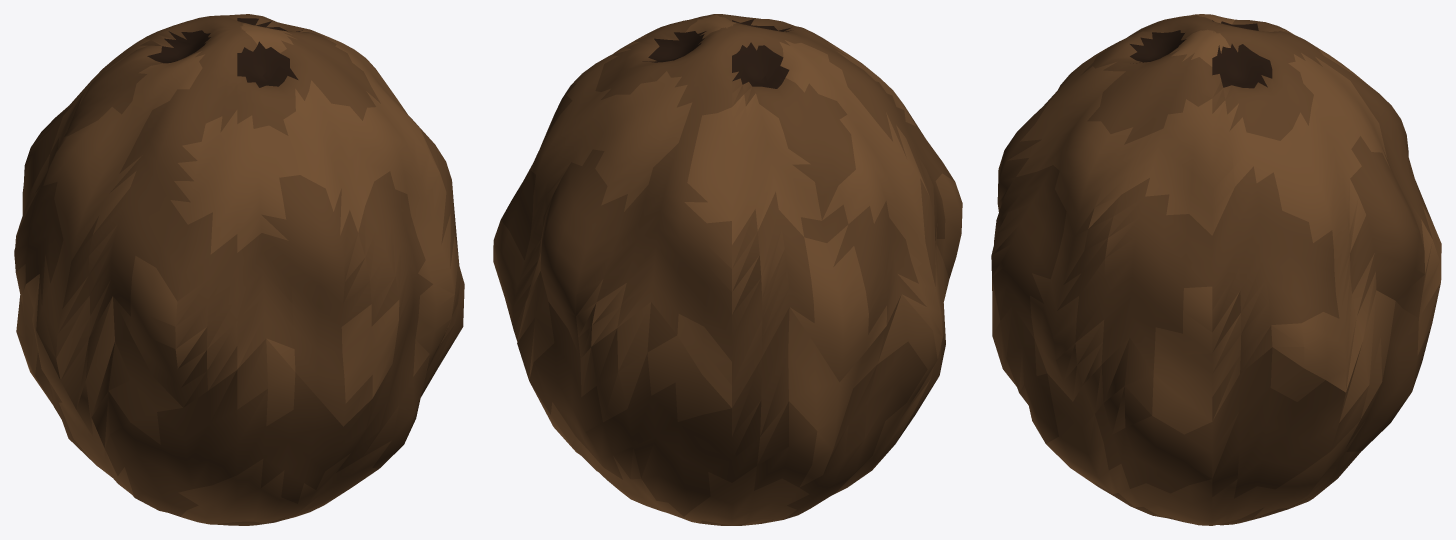
Rendered from coconut.glb.
The picture shows the model from 3 angles, left to right: view 1: azimuth 30°, elevation 25°; view 2: azimuth 150°, elevation 25°; view 3: azimuth 270°, elevation 25°; orthographic projection.
Visible parts, largest first — view 1: mitad_b, mitad_a; view 2: mitad_b, mitad_a; view 3: mitad_b, mitad_a.
Boxes of the visible parts, bbox=[...] form: mitad_b: bbox=[14, 14, 460, 426]; mitad_a: bbox=[16, 267, 464, 525]; mitad_b: bbox=[493, 14, 962, 407]; mitad_a: bbox=[514, 244, 949, 525]; mitad_b: bbox=[991, 14, 1441, 421]; mitad_a: bbox=[992, 282, 1440, 525].
Bounding box in the file's own units: 0.1552 × 0.18 × 0.1532.
1 material, 1 textured.
